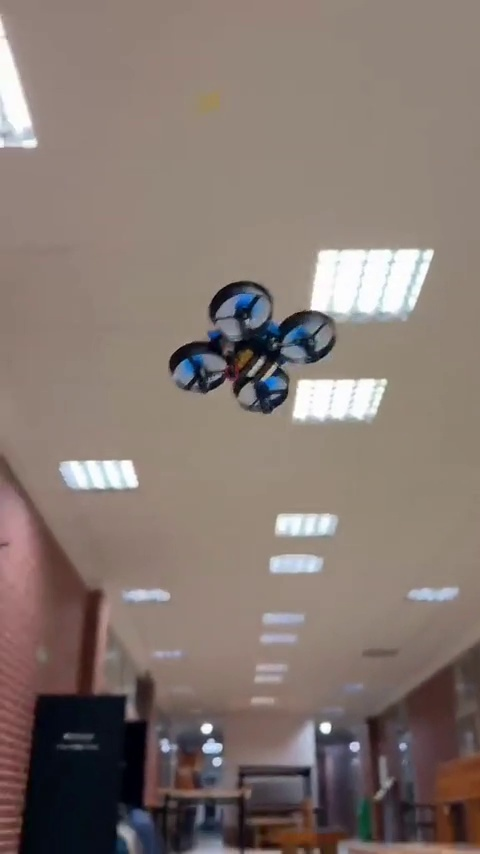drone: (173, 282, 337, 415)
